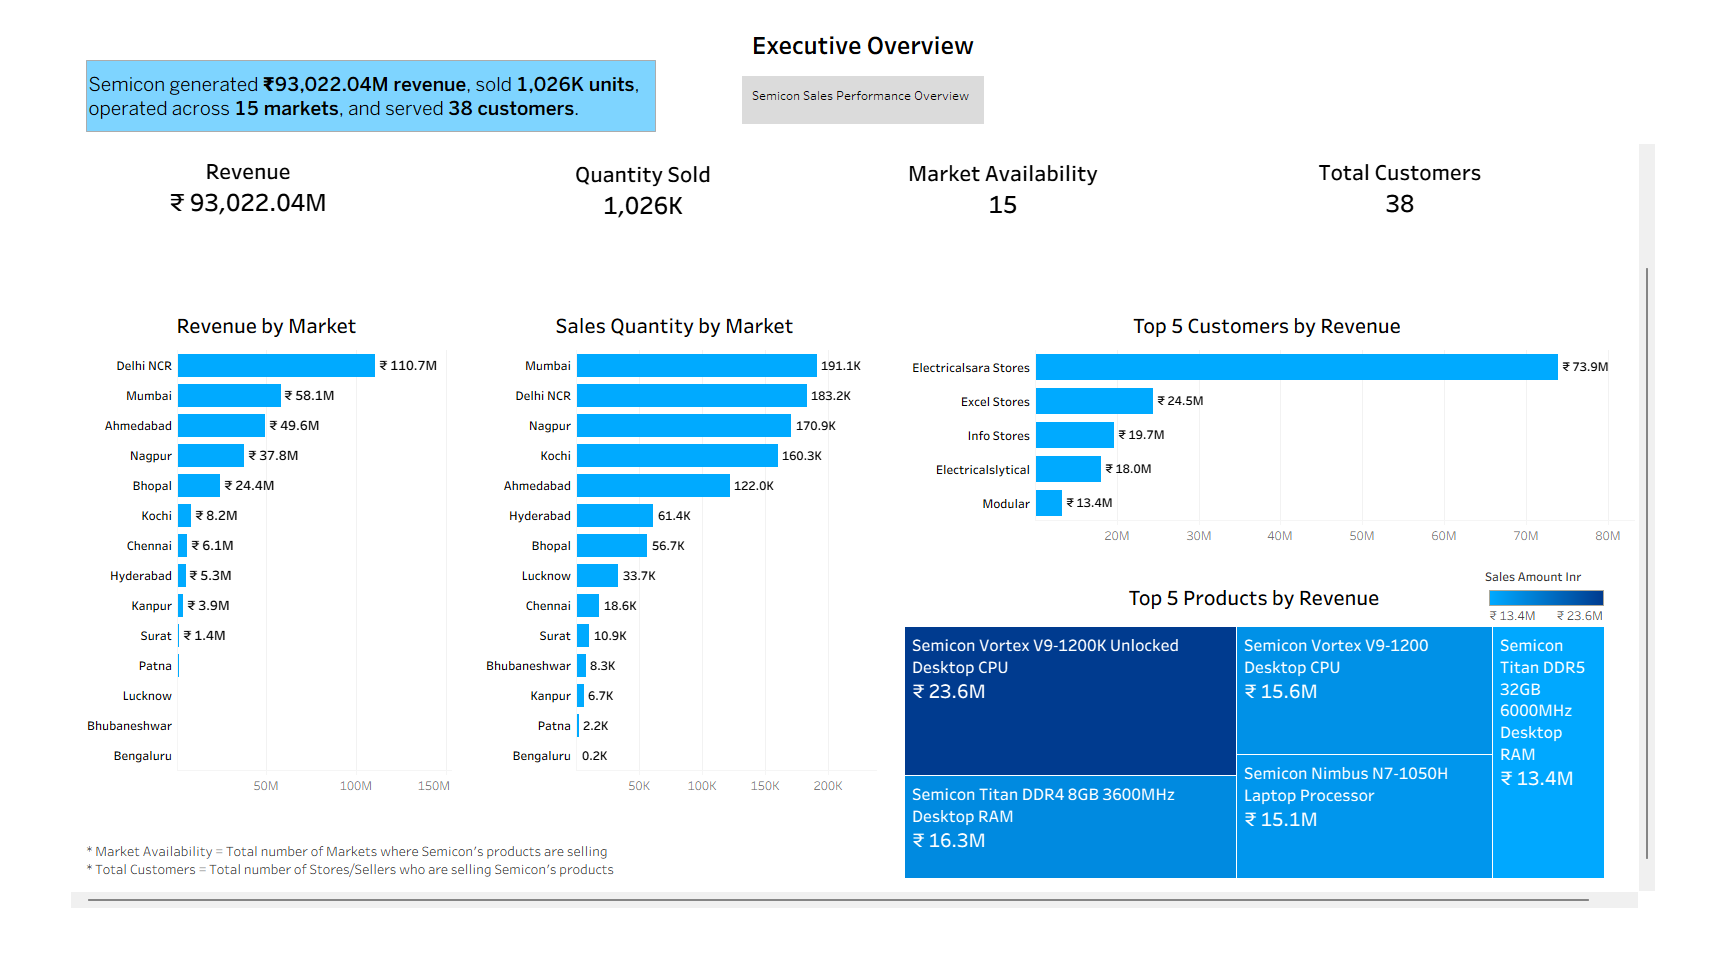

Layout of this report page (visuals, bound fields, positions):
{"tool":"tableau","page":{"name":"Executive Overview","canvas":[1600,900],"ordinal":0},"visuals":[{"type":"image","param":"Image/Semicon Logo.png","box":[9,6,145,106]},{"type":"worksheet","title":"Year","mark":"Automatic","cols":["cy_date"],"box":[648,16,246,28]},{"type":"dashboard-object","box":[1358,25,201,52]},{"type":"worksheet","title":"Month","mark":"Automatic","cols":["cy_date"],"box":[416,52,713,28]},{"type":"worksheet","title":"Revenue","mark":"Automatic","box":[87,147,186,97]},{"type":"worksheet","title":"Total Customers","mark":"Automatic","box":[1239,148,190,69]},{"type":"worksheet","title":"Market Availability","mark":"Automatic","box":[832,149,200,75]},{"type":"worksheet","title":"Quantity","mark":"Automatic","box":[492,150,162,89]},{"type":"worksheet","title":"Revenue by Market","mark":"Automatic","rows":["markets_name"],"cols":["sales_amount_inr"],"box":[10,297,371,520]},{"type":"worksheet","title":"Sales Quantity by Market","mark":"Automatic","rows":["markets_name"],"cols":["sales_qty"],"box":[401,297,405,520]},{"type":"worksheet","title":"Top 5 Customers by Revenue","mark":"Automatic","rows":["customer_name"],"cols":["sales_amount_inr"],"box":[828,297,736,268]},{"type":"legend","title":"Top 5 Products by Revenue","param":"[federated.0j6zvnc1e63i9p1eny9z31n1refj].[sum:sales_amount_inr:qk]","box":[1414,558,123,65]},{"type":"worksheet","title":"Top 5 Products by Revenue","mark":"Automatic","box":[829,569,720,303]},{"type":"text","box":[13,832,561,36]}]}

Visuals, with their boxes in screenshot pixels (x1, y1, x2, y2), scaled from the page's 1600x900 canvas onto the 1721x967 screenshot:
image: left=10, top=6, right=166, bottom=120
"Year" worksheet: left=697, top=17, right=962, bottom=47
dashboard-object: left=1461, top=27, right=1677, bottom=83
"Month" worksheet: left=447, top=56, right=1214, bottom=86
"Revenue" worksheet: left=94, top=158, right=294, bottom=262
"Total Customers" worksheet: left=1333, top=159, right=1537, bottom=233
"Market Availability" worksheet: left=895, top=160, right=1110, bottom=241
"Quantity" worksheet: left=529, top=161, right=703, bottom=257
"Revenue by Market" worksheet: left=11, top=319, right=410, bottom=878
"Sales Quantity by Market" worksheet: left=431, top=319, right=867, bottom=878
"Top 5 Customers by Revenue" worksheet: left=891, top=319, right=1682, bottom=607
"Top 5 Products by Revenue" legend: left=1521, top=600, right=1653, bottom=669
"Top 5 Products by Revenue" worksheet: left=892, top=611, right=1666, bottom=937
text: left=14, top=894, right=617, bottom=933
